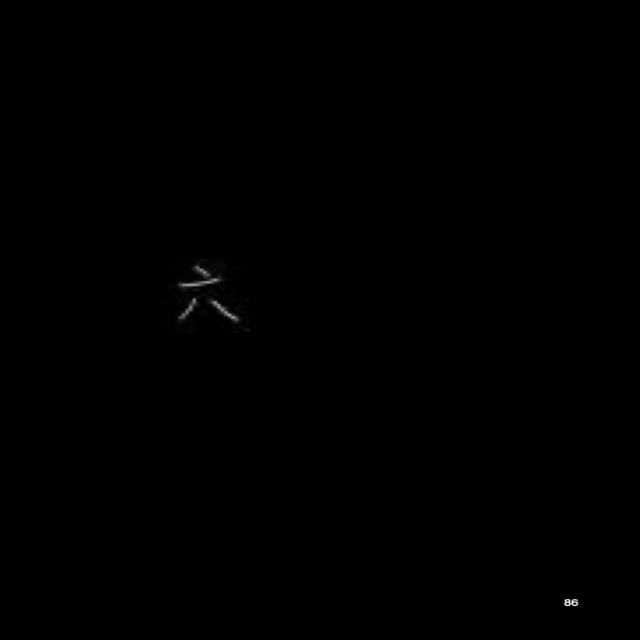6 -six-: (142, 251, 258, 344)
